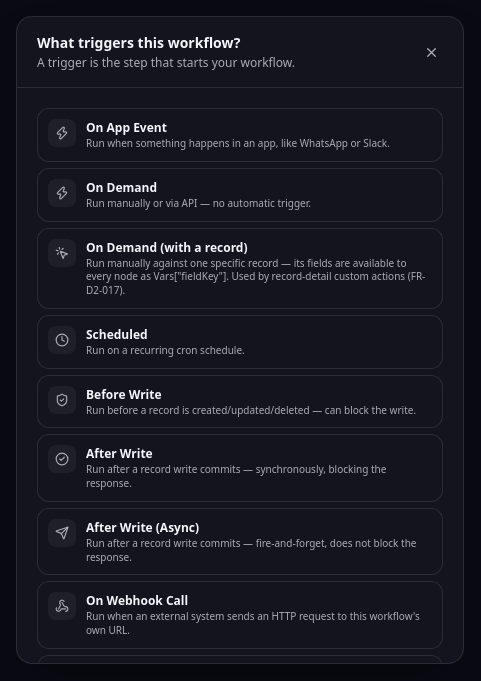
it: TriggerOnboardingModal › picking On App Event swaps to the app picker
This screenshot has width=481, height=681.
Click the text "On App Event".
click(126, 128)  # box x1=86 y1=119 x2=167 y2=136
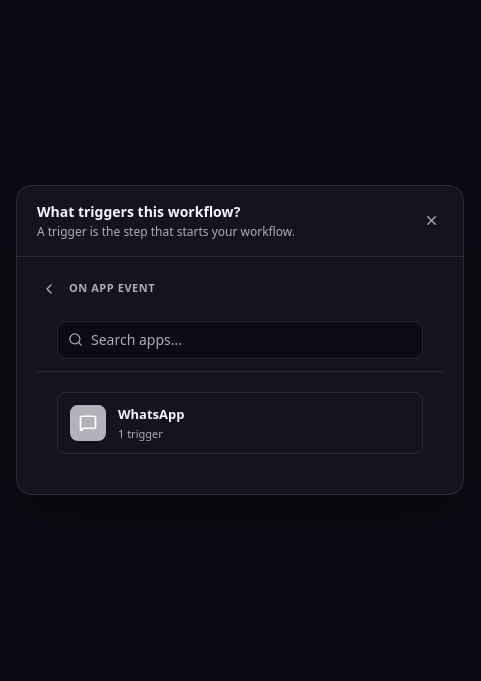
Expected: the text "WhatsApp" is shown, x1=118 y1=405 x2=184 y2=424
Result: the field with placeholder "Search apps…" is shown at x1=91 y1=322 x2=412 y2=358
Result: the button "Slack" is gone
